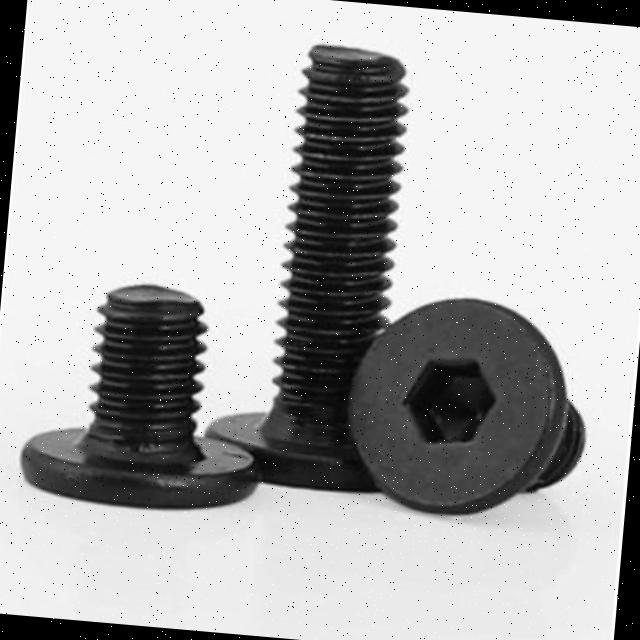Hex Socket Allen: (344, 287, 560, 524)
